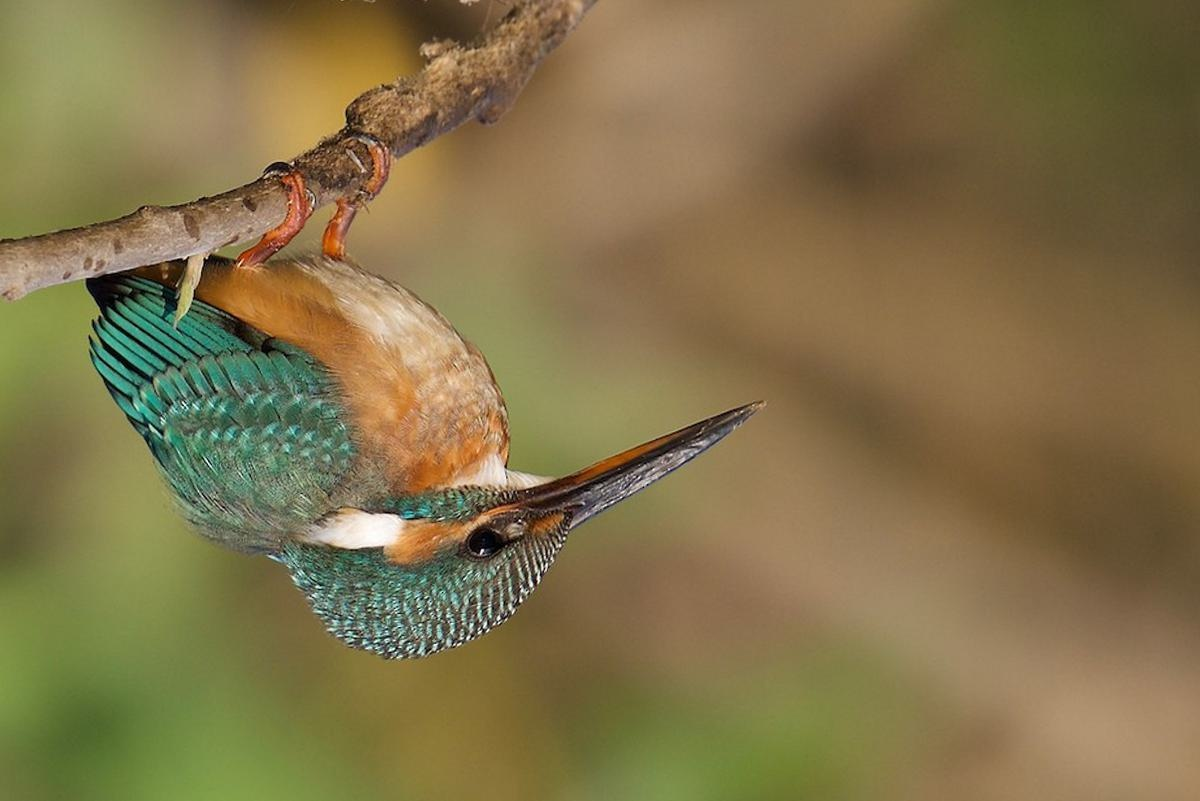kingfisher: (70, 148, 772, 665)
